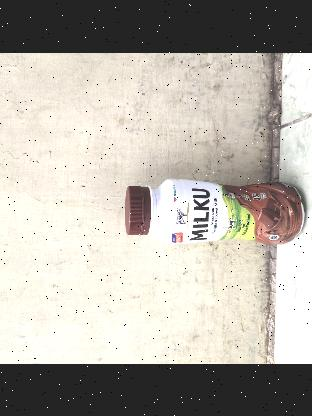Plastic Bottle: (124, 178, 304, 244)
